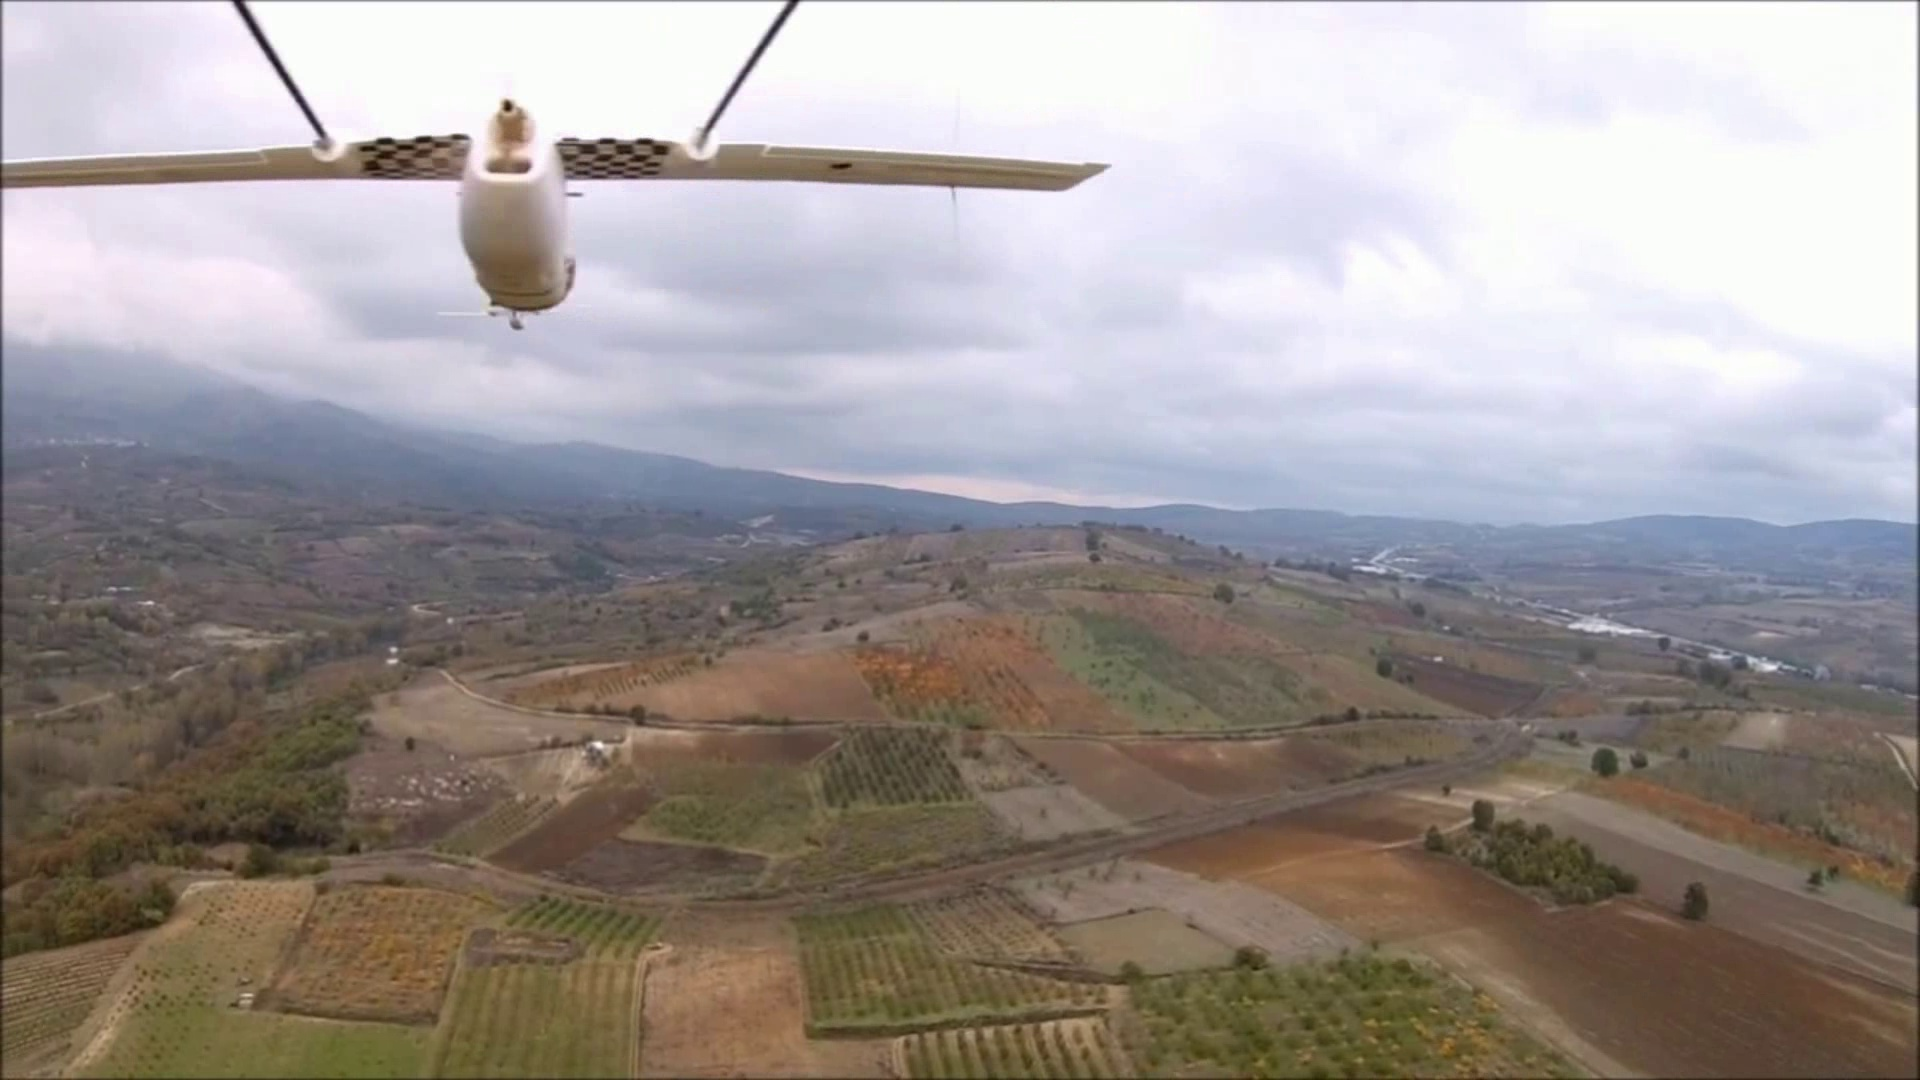airplane: (6, 2, 1108, 318)
